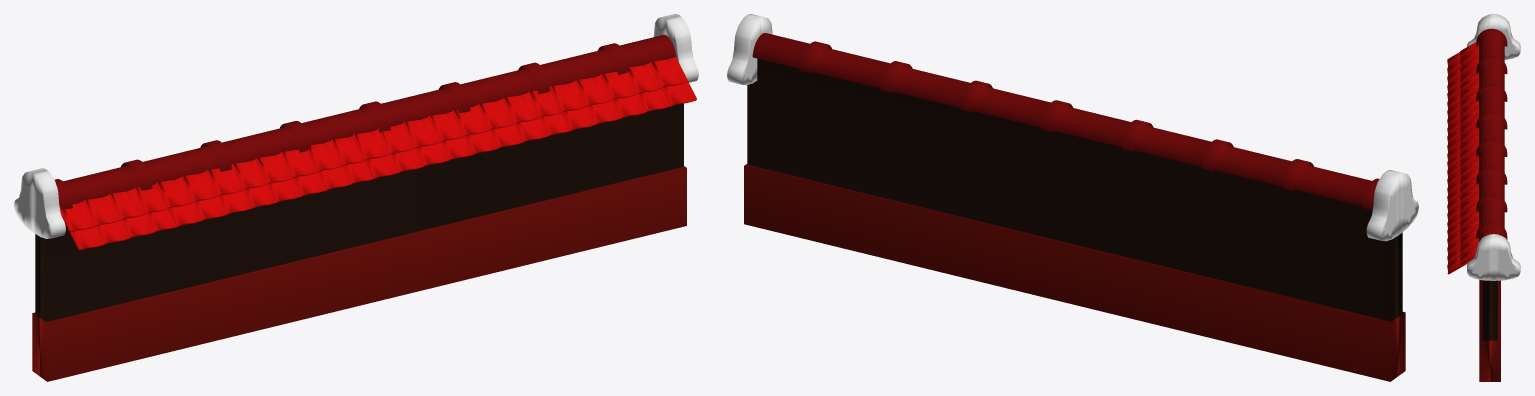
The model's file is wakabe.fbx.
3 views of the same model, side by side, from view 1: azimuth 30°, elevation 25°; view 2: azimuth 150°, elevation 25°; view 3: azimuth 270°, elevation 25° (orthographic). The views are drawn at different scales.
Visible parts, largest first — view 1: 立方体.005, 平面.005; view 2: 立方体.005, 平面.005; view 3: 立方体.005, 平面.005.
Boxes of the visible parts, x1,y1,x2,y2 form: 立方体.005: (32, 35, 696, 381); 平面.005: (14, 14, 698, 238); 立方体.005: (744, 33, 1405, 381); 平面.005: (727, 14, 1418, 241); 立方体.005: (1447, 28, 1507, 381); 平面.005: (1467, 14, 1520, 280).
Size of the model in its own units: 405 by 121 by 55.8.
